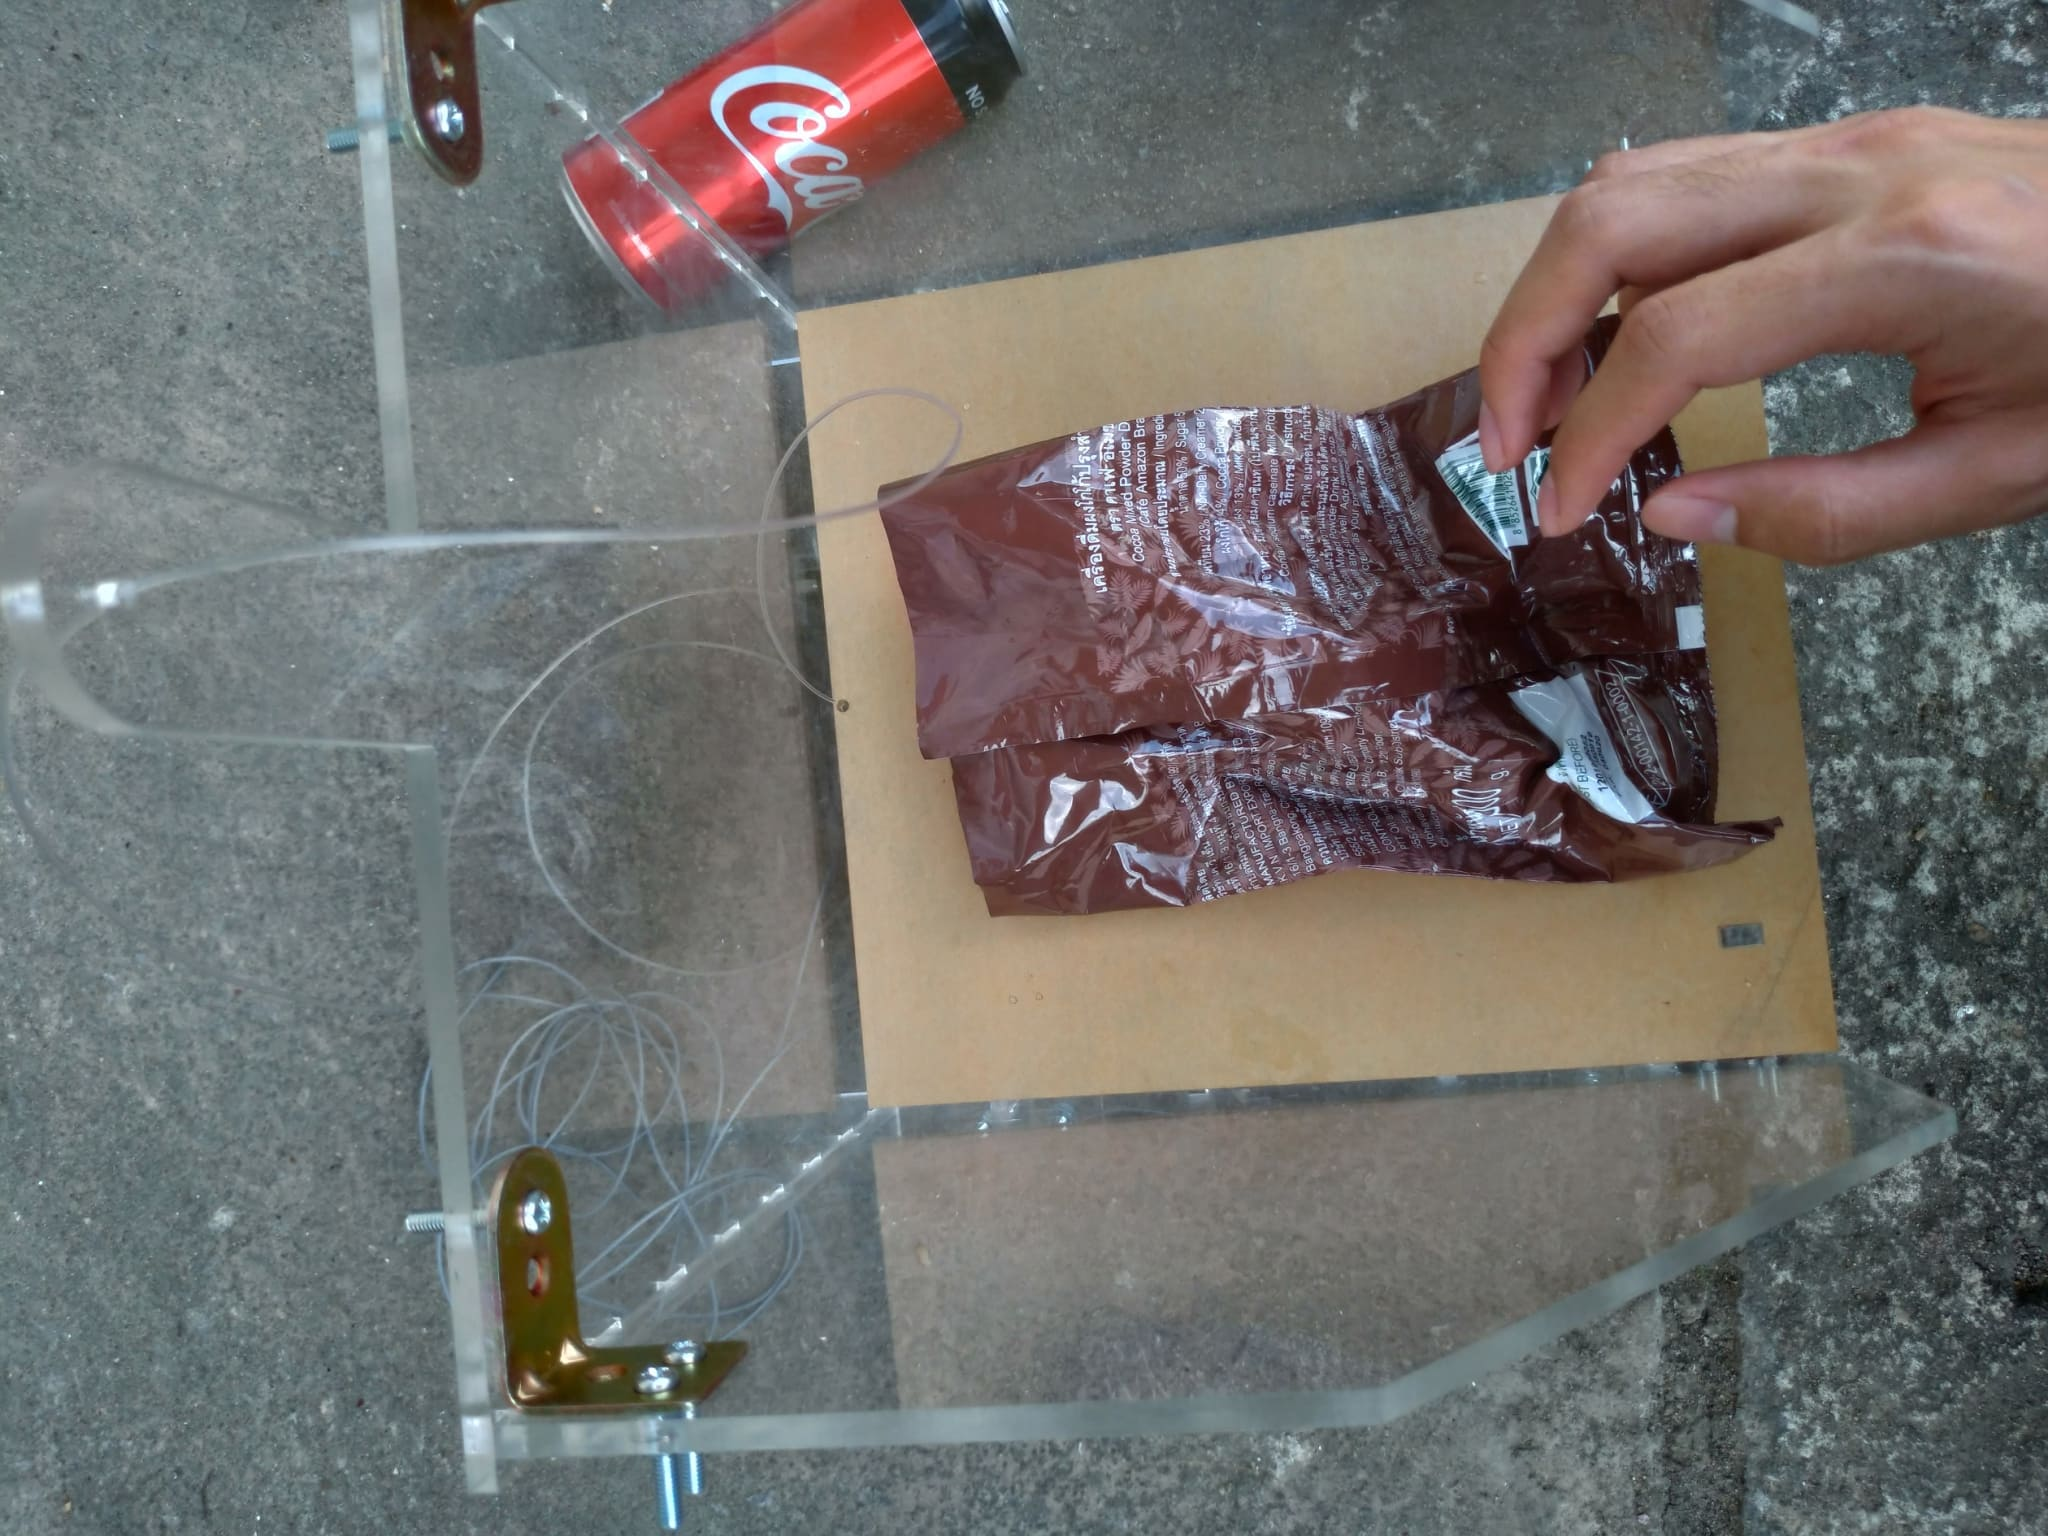AlCan: (552, 2, 1027, 324)
Others: (872, 310, 1785, 912)
